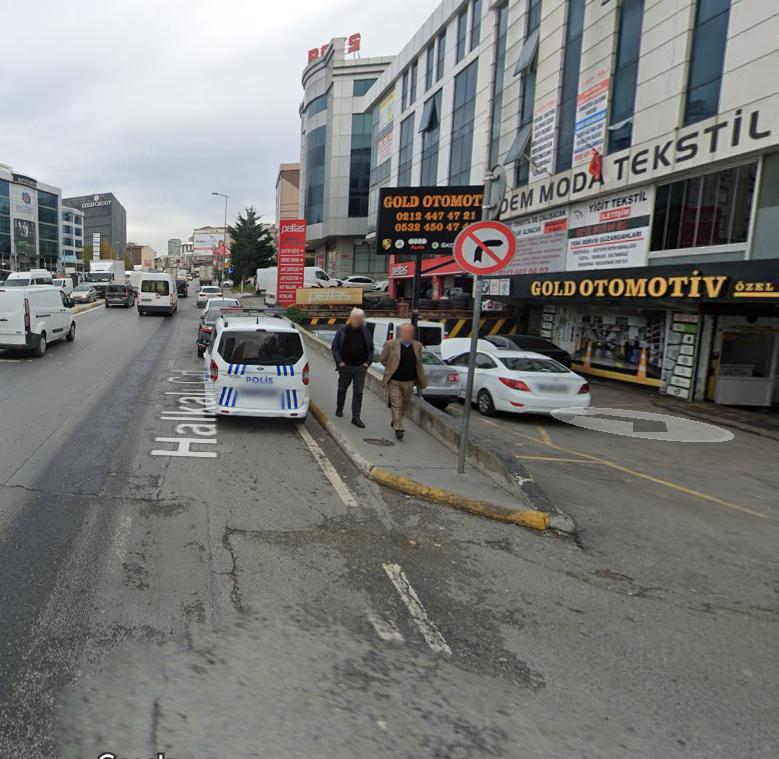rightturnsareforbidden: (449, 219, 516, 282)
